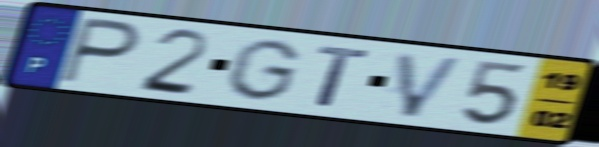2: (136, 26, 211, 98)
5: (460, 58, 529, 127)
G: (221, 37, 306, 103)
P: (55, 15, 144, 88)
T: (314, 43, 374, 110)
V: (393, 49, 469, 120)
